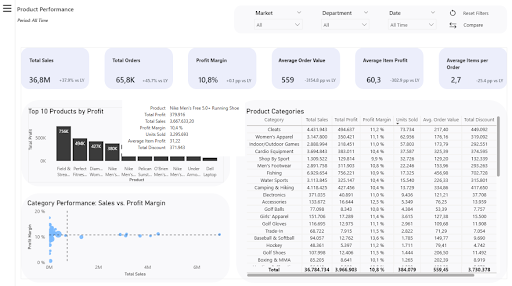

The page's visual inventory and layout, read from the dashboard file:
{"tool":"powerbi","page":{"name":"Shipping & Product","canvas":[1280,720],"ordinal":2},"visuals":[{"type":"shape","title":"Navigation Lukket","box":[0,0,40.7,720.3],"z":0,"group":"g9"},{"type":"actionButton","title":"Knap - Reset Filters","box":[1109,16.3,39.8,36.2],"z":0,"group":"g5"},{"type":"group","id":"g1","title":"KPI Området","box":[54.8,121,1209,576],"z":0,"group":"g6"},{"type":"group","id":"g2","title":"Compare Elementer","box":[134.9,185,1131.6,40.2],"z":0,"group":"g8"},{"type":"card","title":"KPI-Label - Total Sales","fields":{"Values":["fact_item.Sales YoY Label"]},"box":[134.9,185,92.6,39.8],"z":0,"group":"g2"},{"type":"group","id":"g3","title":"Baggrund","box":[55.4,251.9,1209.6,455.4],"z":0},{"type":"clusteredColumnChart","title":"Top 10 Products by Profit","fields":{"Category":["dim_product.product_name"],"Y":["Sum(fact_item.item_profit)"]},"box":[72.9,269.4,486.1,187],"z":0,"group":"g4"},{"type":"shape","title":"Shape - Plot","box":[55.4,483.9,518.3,222.4],"z":0,"group":"g3"},{"type":"textbox","title":"Text - Reset Filters","box":[1150,21,92,28.9],"z":1000,"group":"g5"},{"type":"actionButton","title":"Compare Knap Tændt","box":[1109,47,39,37.1],"z":1000,"group":"g8"},{"type":"card","title":"KPI-Label - Total Orders","fields":{"Values":["fact_orders.Orders YoY Label"]},"box":[342.2,185,92.1,40.2],"z":1000,"group":"g2"},{"type":"shape","title":"Shape - Plot","box":[56.4,252,518.3,214.8],"z":1000,"group":"g3"},{"type":"group","id":"g4","title":"Visualiseringer","box":[71.1,269.4,1180.2,427.6],"z":1000,"group":"g1"},{"type":"tableEx","title":"Product Categories","fields":{"Values":["dim_product.category_name","fact_item.Total Sales","Sum(fact_item.item_profit)","fact_item.Profit Margin","Sum(fact_item.item_quantity)","fact_item.Average Order Value","Sum(fact_item.item_discount)","dim_product.productKey"]},"box":[609.8,269.4,641.4,427.6],"z":1000,"group":"g4"},{"type":"shape","title":"Shape - Filter Panel","box":[584.8,16.3,678.9,69.7],"z":1250,"group":"g7"},{"type":"group","id":"g5","title":"Reset Filters","box":[1109,16.3,133,36.2],"z":1875,"group":"g7"},{"type":"textbox","title":"Text - Compare","box":[1150,50,92,29],"z":1937,"group":"g7"},{"type":"actionButton","title":"Menu Burger Åben","box":[8,10.5,25,25],"z":2000,"group":"g9"},{"type":"slicer","title":"Slicer - Market","fields":{"Values":["dim_location.market"]},"box":[624.5,21.1,139.7,60],"z":2000,"group":"g7"},{"type":"shape","title":"Shape - KPI - 6","box":[1093.8,121,170,103.7],"z":2000,"group":"g1"},{"type":"card","title":"KPI-Label - Profit Margin","fields":{"Values":["fact_item.Profit Margin YoY Label"]},"box":[550.8,185,92.1,40.2],"z":2000,"group":"g2"},{"type":"shape","title":"Shape - Plot","box":[590,251.9,675,455.4],"z":2000,"group":"g3"},{"type":"scatterChart","title":"Category Performance: Sales vs. Profit Margin","fields":{"X":["fact_item.Total Sales"],"Y":["fact_item.Profit Margin"],"Category":["dim_product.category_name"],"Size":["Count(dim_product.productKey)"]},"box":[71.1,497.3,490.9,192.7],"z":2000,"group":"g4"},{"type":"shape","title":"Shape - KPI - 5","box":[886,121,170,103.7],"z":2500,"group":"g1"},{"type":"slicer","title":"Slicer - Department","fields":{"Values":["dim_product.department_name"]},"box":[791,21.1,139.7,60],"z":3000,"group":"g7"},{"type":"shape","title":"Shape - KPI - 4","box":[678.2,121,170,103.7],"z":3000,"group":"g1"},{"type":"card","title":"KPI-Label - Average Order","fields":{"Values":["fact_item.Average Order Value YoY Label"]},"box":[752.8,185,91.5,39.7],"z":3000,"group":"g2"},{"type":"slicer","title":"Slicer - Date","fields":{"Values":["DatePeriodFilter.Period"]},"box":[957.4,21.1,139.7,60],"z":4000,"group":"g7"},{"type":"shape","title":"Shape - KPI - 3","box":[470.4,121,170,103.7],"z":4000,"group":"g1"},{"type":"card","title":"KPI-Label - Average Profit","fields":{"Values":["fact_item.Average Order Profit YoY Label"]},"box":[963.5,185,91.5,39.7],"z":4000,"group":"g2"},{"type":"group","id":"g6","title":"Dashboard Indhold","box":[54.8,121,1209,576],"z":5000},{"type":"shape","title":"Shape - KPI - 2","box":[262.6,121,170,103.7],"z":5000,"group":"g1"},{"type":"card","title":"KPI-Label - Average Items","fields":{"Values":["fact_item.Average Items per Order YoY Label"]},"box":[1174.4,185,92.1,40.2],"z":5000,"group":"g2"},{"type":"group","id":"g7","title":"Overskrifter og Filtres","box":[40.4,0,1223.3,86],"z":6000},{"type":"shape","title":"Shape - KPI - 1","box":[54.8,121,170,103.7],"z":6000,"group":"g1"},{"type":"shape","title":"Periode","box":[41.1,36.2,223.9,33.2],"z":7000,"group":"g7"},{"type":"group","id":"g8","title":"Compare","box":[134.9,47,1131.6,178.2],"z":7000},{"type":"textbox","title":"Text - KPI - 6","box":[1108.2,138.7,139.9,49.1],"z":7000,"group":"g1"},{"type":"group","id":"g9","title":"Menu bar","box":[0,0,40.7,720.3],"z":8000},{"type":"shape","title":"Titel","box":[40.4,0,340.5,50.2],"z":8000,"group":"g7"},{"type":"textbox","title":"Text - KPI - 5","box":[899.9,138.7,145.3,29.1],"z":8000,"group":"g1"},{"type":"textbox","title":"Text - KPI - 3","box":[485.4,138.7,152.9,54.9],"z":9000,"group":"g1"},{"type":"textbox","title":"Text - KPI - 4","box":[689.9,138.7,145.3,49.5],"z":10000,"group":"g1"},{"type":"textbox","title":"Text - KPI - 2","box":[277.6,138.7,147.5,49.5],"z":11000,"group":"g1"},{"type":"textbox","title":"Text - KPI - 1","box":[70.9,138.7,144.3,28],"z":12000,"group":"g1"},{"type":"card","title":"KPI-Tal - 3","fields":{"Values":["fact_item.Profit Margin"]},"box":[484.8,187.8,71.2,30.7],"z":13000,"group":"g1"},{"type":"card","title":"KPI-Tal - 6","fields":{"Values":["fact_item.Average Items Per Order"]},"box":[1105.5,188.2,61.4,30.1],"z":14000,"group":"g1"},{"type":"card","title":"KPI-Tal - 4","fields":{"Values":["fact_item.Average Order Value"]},"box":[689.7,187.8,57.7,30.7],"z":15000,"group":"g1"},{"type":"card","title":"KPI-Tal - 5","fields":{"Values":["fact_item.Average Order Profit"]},"box":[899.9,188.2,63.5,30.1],"z":16000,"group":"g1"},{"type":"card","title":"KPI-Tal - 2","fields":{"Values":["fact_orders.Total Orders"]},"box":[277.4,187.8,73.6,30.7],"z":17000,"group":"g1"},{"type":"card","title":"KPI-Tal - 1","fields":{"Values":["fact_item.Total Sales"]},"box":[62.6,187.8,77.3,30.7],"z":18000,"group":"g1"}]}

Visuals, with their boxes in screenshot pixels (x1, y1, x2, y2), scaled from the page's 1280x720 canvas onto the 512x286 screenshot:
"Navigation Lukket" shape: detection(0, 0, 16, 285)
"Knap - Reset Filters" actionButton: detection(444, 6, 460, 21)
"KPI Området" group: detection(22, 48, 506, 277)
"Compare Elementer" group: detection(54, 73, 507, 89)
"KPI-Label - Total Sales" card: detection(54, 73, 91, 89)
"Baggrund" group: detection(22, 100, 506, 281)
"Top 10 Products by Profit" clusteredColumnChart: detection(29, 107, 224, 181)
"Shape - Plot" shape: detection(22, 192, 229, 281)
"Text - Reset Filters" textbox: detection(460, 8, 497, 20)
"Compare Knap Tændt" actionButton: detection(444, 19, 459, 33)
"KPI-Label - Total Orders" card: detection(137, 73, 174, 89)
"Shape - Plot" shape: detection(23, 100, 230, 185)
"Visualiseringer" group: detection(28, 107, 501, 277)
"Product Categories" tableEx: detection(244, 107, 500, 277)
"Shape - Filter Panel" shape: detection(234, 6, 505, 34)
"Reset Filters" group: detection(444, 6, 497, 21)
"Text - Compare" textbox: detection(460, 20, 497, 31)
"Menu Burger Åben" actionButton: detection(3, 4, 13, 14)
"Slicer - Market" slicer: detection(250, 8, 306, 32)
"Shape - KPI - 6" shape: detection(438, 48, 506, 89)
"KPI-Label - Profit Margin" card: detection(220, 73, 257, 89)
"Shape - Plot" shape: detection(236, 100, 506, 281)
"Category Performance: Sales vs. Profit Margin" scatterChart: detection(28, 198, 225, 274)
"Shape - KPI - 5" shape: detection(354, 48, 422, 89)
"Slicer - Department" slicer: detection(316, 8, 372, 32)
"Shape - KPI - 4" shape: detection(271, 48, 339, 89)
"KPI-Label - Average Order" card: detection(301, 73, 338, 89)
"Slicer - Date" slicer: detection(383, 8, 439, 32)
"Shape - KPI - 3" shape: detection(188, 48, 256, 89)
"KPI-Label - Average Profit" card: detection(385, 73, 422, 89)
"Dashboard Indhold" group: detection(22, 48, 506, 277)
"Shape - KPI - 2" shape: detection(105, 48, 173, 89)
"KPI-Label - Average Items" card: detection(470, 73, 507, 89)
"Overskrifter og Filtres" group: detection(16, 0, 505, 34)
"Shape - KPI - 1" shape: detection(22, 48, 90, 89)
"Periode" shape: detection(16, 14, 106, 28)
"Compare" group: detection(54, 19, 507, 89)
"Text - KPI - 6" textbox: detection(443, 55, 499, 75)
"Menu bar" group: detection(0, 0, 16, 285)
"Titel" shape: detection(16, 0, 152, 20)
"Text - KPI - 5" textbox: detection(360, 55, 418, 67)
"Text - KPI - 3" textbox: detection(194, 55, 255, 77)
"Text - KPI - 4" textbox: detection(276, 55, 334, 75)
"Text - KPI - 2" textbox: detection(111, 55, 170, 75)
"Text - KPI - 1" textbox: detection(28, 55, 86, 66)
"KPI-Tal - 3" card: detection(194, 75, 222, 87)
"KPI-Tal - 6" card: detection(442, 75, 467, 87)
"KPI-Tal - 4" card: detection(276, 75, 299, 87)
"KPI-Tal - 5" card: detection(360, 75, 385, 87)
"KPI-Tal - 2" card: detection(111, 75, 140, 87)
"KPI-Tal - 1" card: detection(25, 75, 56, 87)
